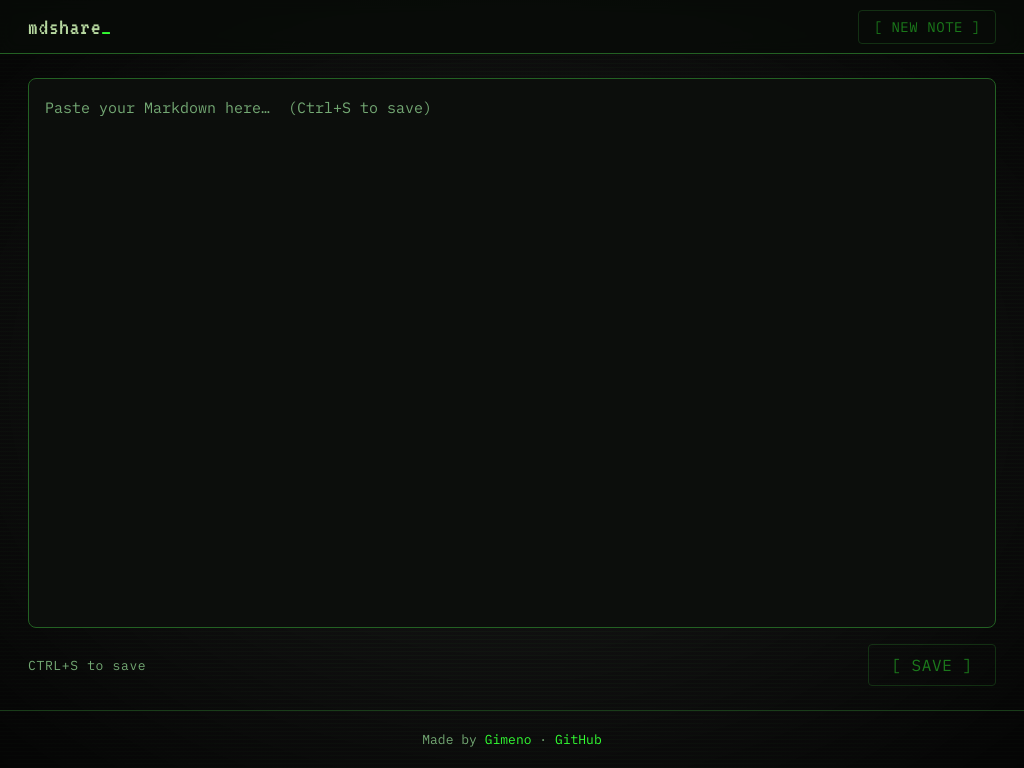
save failure shows an error and keeps the editor
The image size is (1024, 768).
Type "# Nope" into the text box with placeholder "Paste your Markdown here… (Ctrl+S to save)" at coordinates (512, 353), box [28,78,996,628]
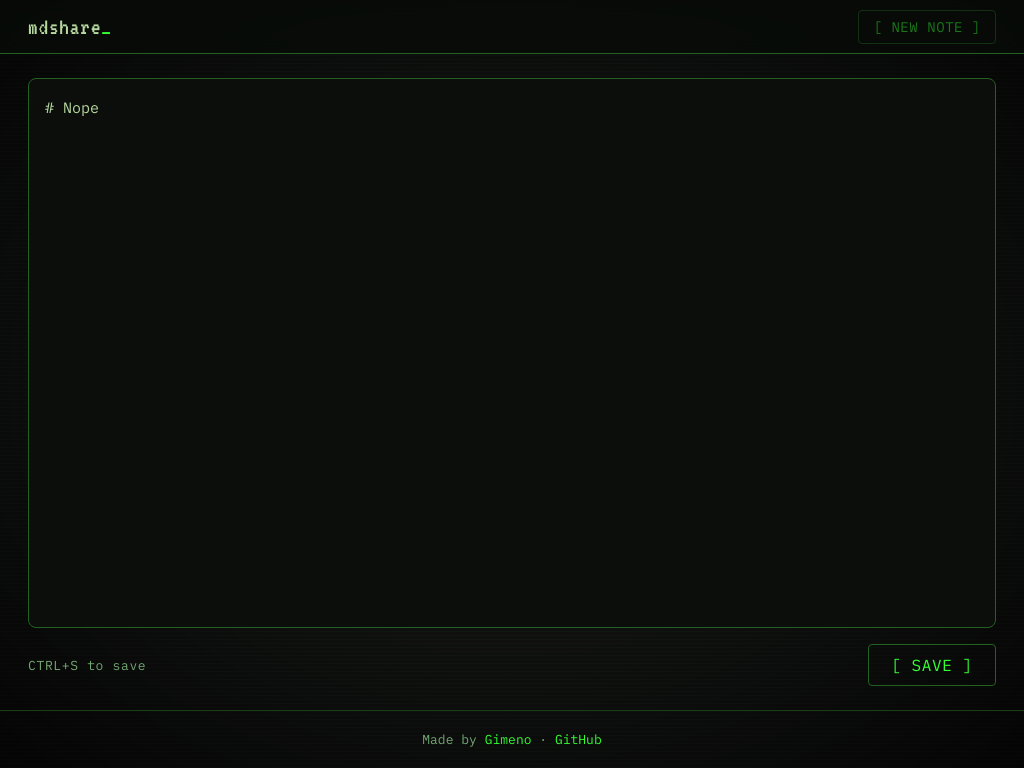
Click the button "[ SAVE ]" at coordinates (932, 665), box [868,644,996,686]
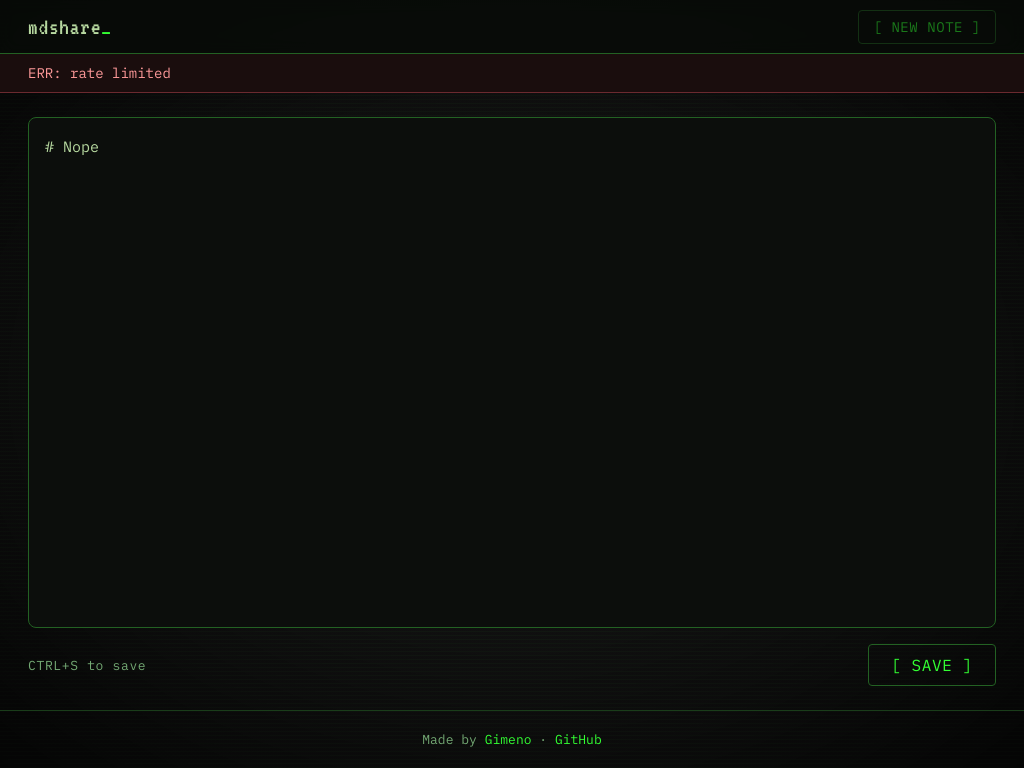
expect the text "ERR: rate limited" is shown: met, box [0,54,1023,93]
